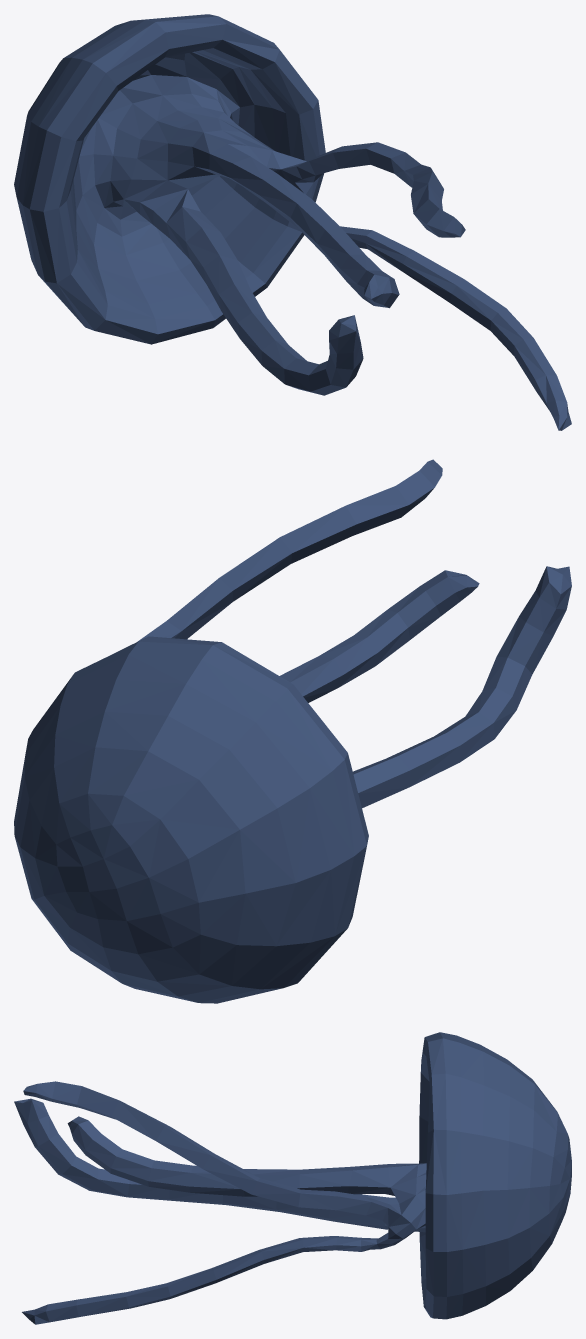
Rendered from simple_jellyfishB.glb.
3 renders of one model, top to bottom at view 1: azimuth 30°, elevation 25°; view 2: azimuth 150°, elevation 25°; view 3: azimuth 270°, elevation 25°, orthographic. The views are drawn at different scales.
Visible parts, largest first — view 1: 9b41c985-dbe2-4391-9373-459d3a7c7411; view 2: 9b41c985-dbe2-4391-9373-459d3a7c7411; view 3: 9b41c985-dbe2-4391-9373-459d3a7c7411.
Part boxes in pixels (x1,y1,x2,y2): 9b41c985-dbe2-4391-9373-459d3a7c7411: (14,14,571,430); 9b41c985-dbe2-4391-9373-459d3a7c7411: (14,459,571,1003); 9b41c985-dbe2-4391-9373-459d3a7c7411: (14,1032,571,1324).
Size of the model in its own units: 0.2131 by 0.2 by 0.3893.
